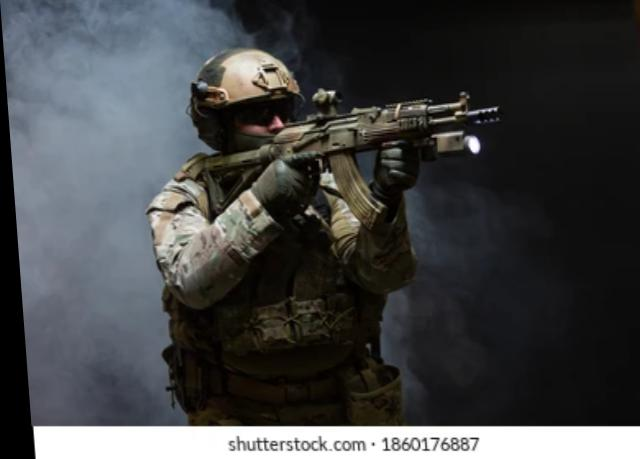other: (141, 52, 389, 365)
